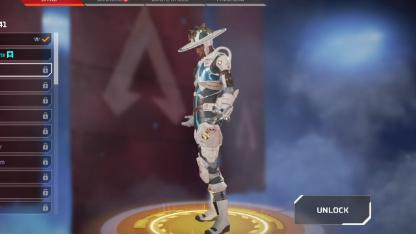Target: (180, 21, 238, 198)
